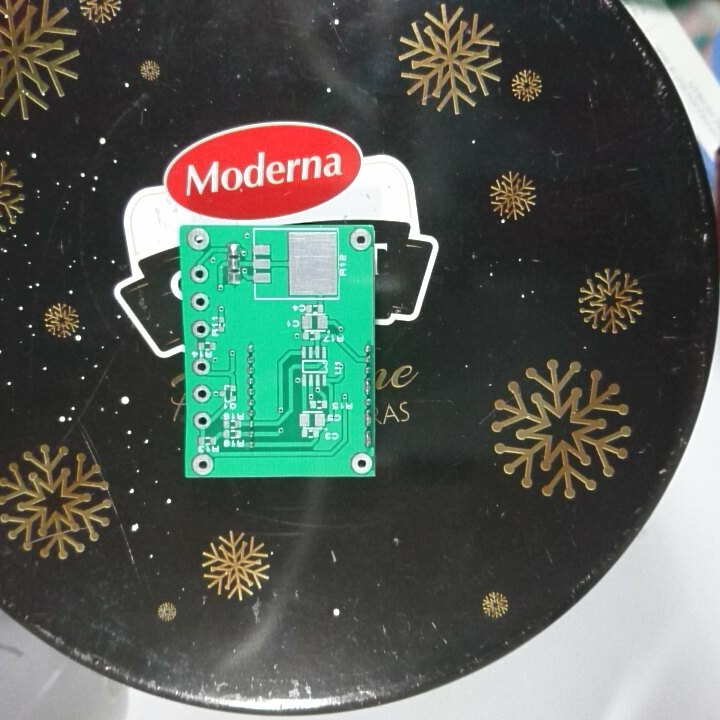F: (345, 225, 374, 252), (184, 225, 211, 252), (190, 451, 216, 475), (188, 318, 213, 342), (191, 409, 214, 433), (188, 263, 211, 286), (189, 355, 212, 378), (349, 452, 372, 475), (188, 291, 211, 312), (191, 383, 211, 404)
P: (362, 428, 374, 450), (362, 377, 374, 397), (362, 407, 373, 427)
